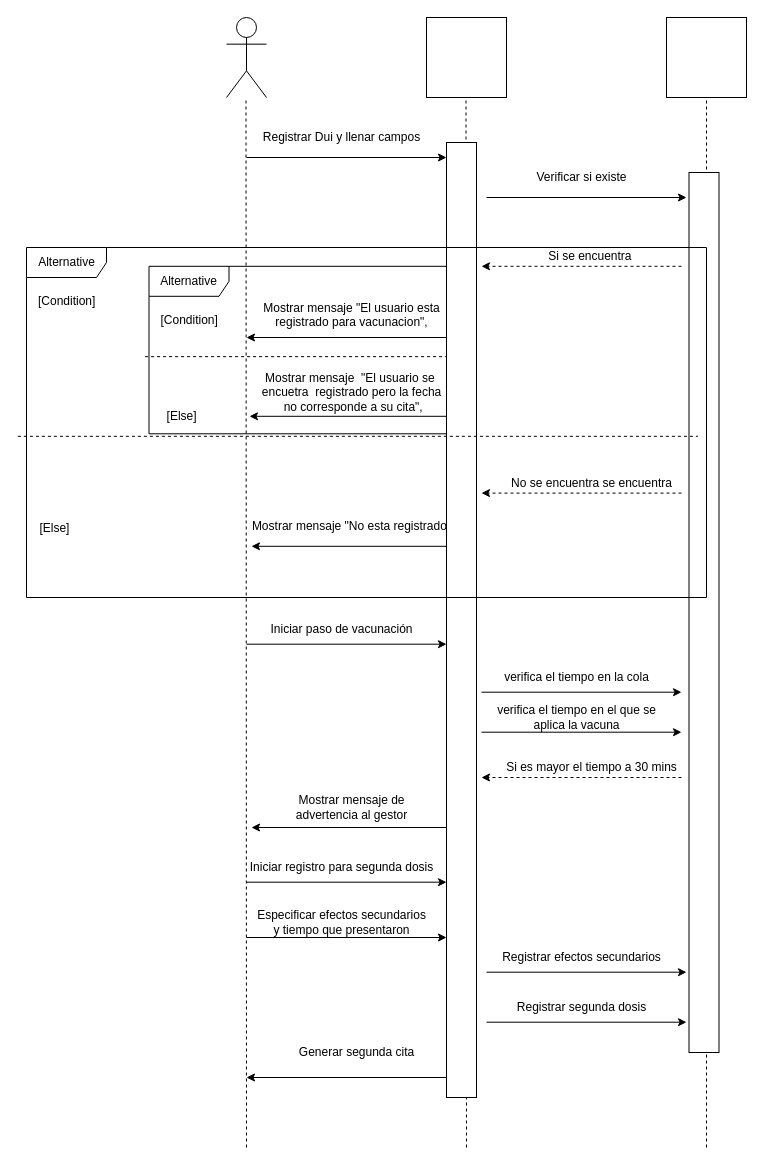
Image size: 764x1166. Some labels were removed from this diagram. The centre of each missing label's shape, as x and y in pixels:
"Database" goes at point 706,57.
"Prechequeo" goes at point 466,57.
